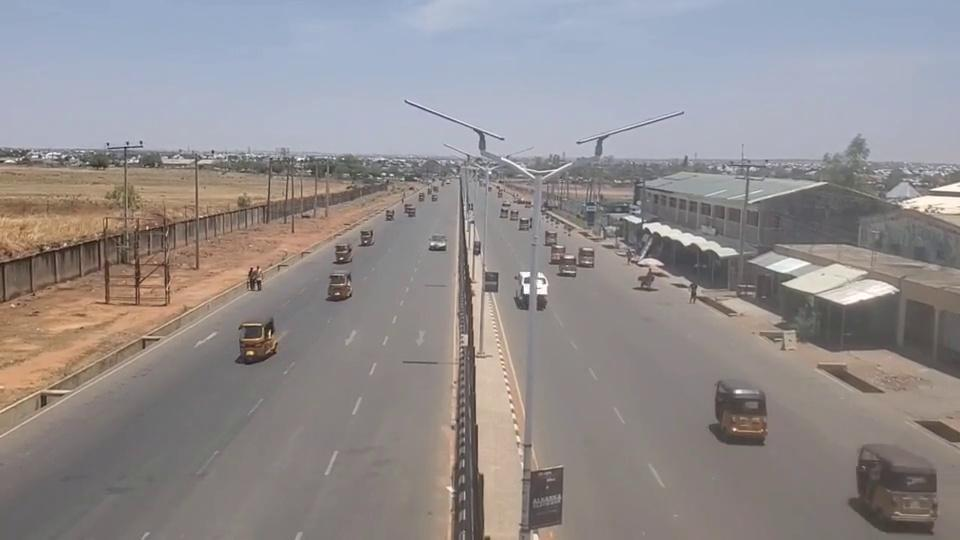bus: (516, 271, 549, 310)
car: (428, 234, 447, 251)
keke: (855, 442, 938, 532), (713, 378, 768, 442), (237, 318, 277, 363), (327, 272, 353, 301), (334, 243, 353, 262), (359, 230, 374, 246), (518, 217, 532, 230), (385, 209, 394, 220)
